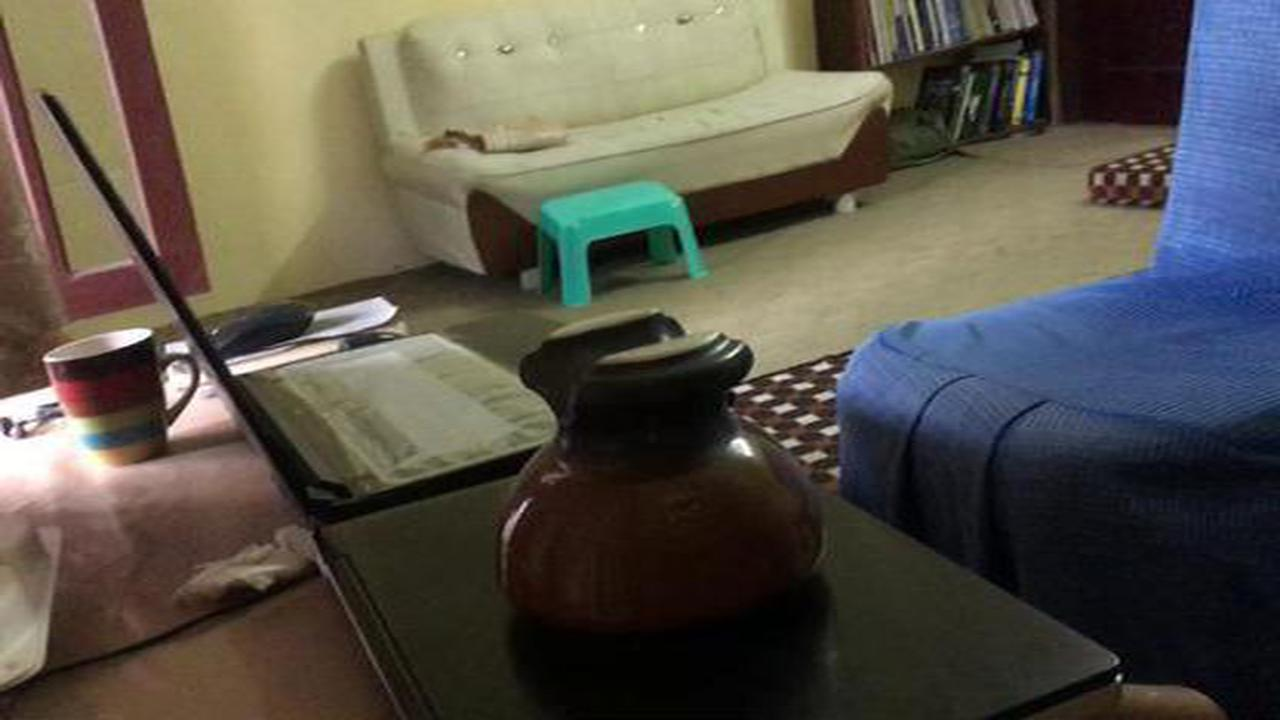insulator_pin: (465, 302, 850, 662)
